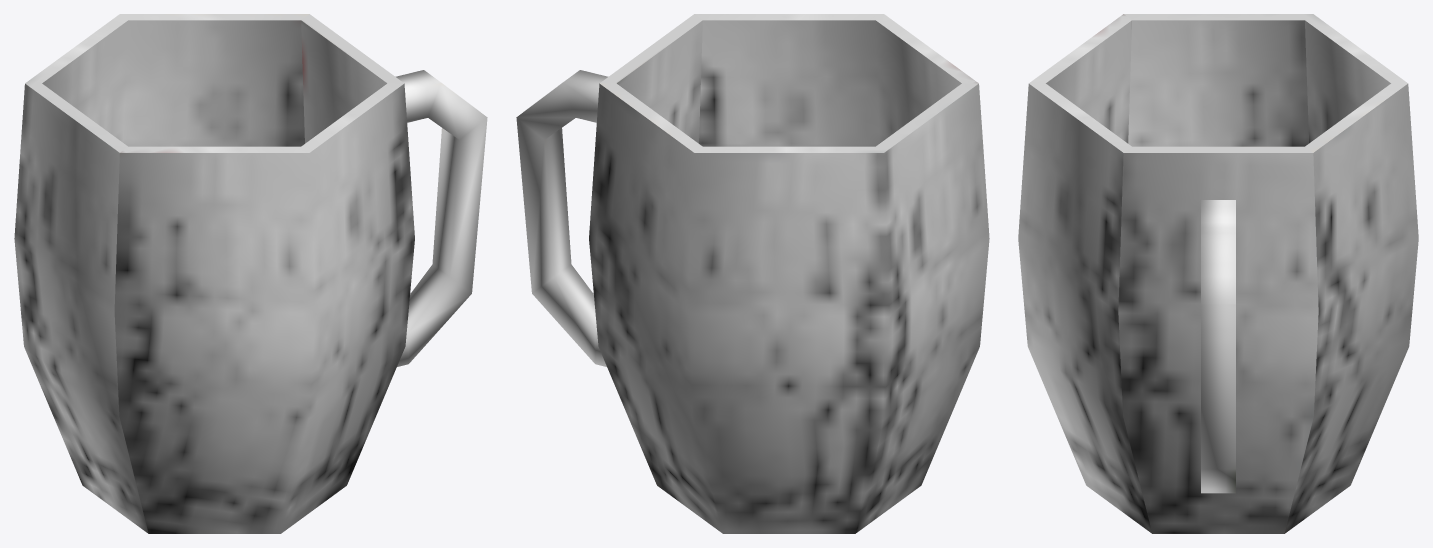
Rendered from BeerGlassV2.fbx.
3 views of the same model, side by side, from view 1: azimuth 30°, elevation 25°; view 2: azimuth 150°, elevation 25°; view 3: azimuth 270°, elevation 25° (orthographic).
Parts seen in each view (by area): view 1: Beer&Wine.004; view 2: Beer&Wine.004; view 3: Beer&Wine.004.
Boxes of the visible parts, x1,y1,x2,y2 form: Beer&Wine.004: [14, 14, 487, 533]; Beer&Wine.004: [516, 14, 989, 533]; Beer&Wine.004: [1018, 14, 1418, 533].
Size of the model in its own units: 0.2392 by 0.2219 by 0.2003.
